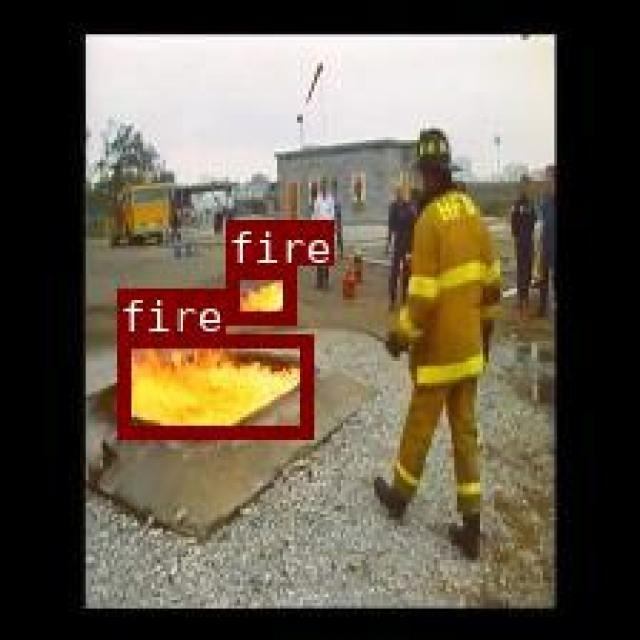fire: (117, 333, 310, 437), (226, 265, 293, 323)
